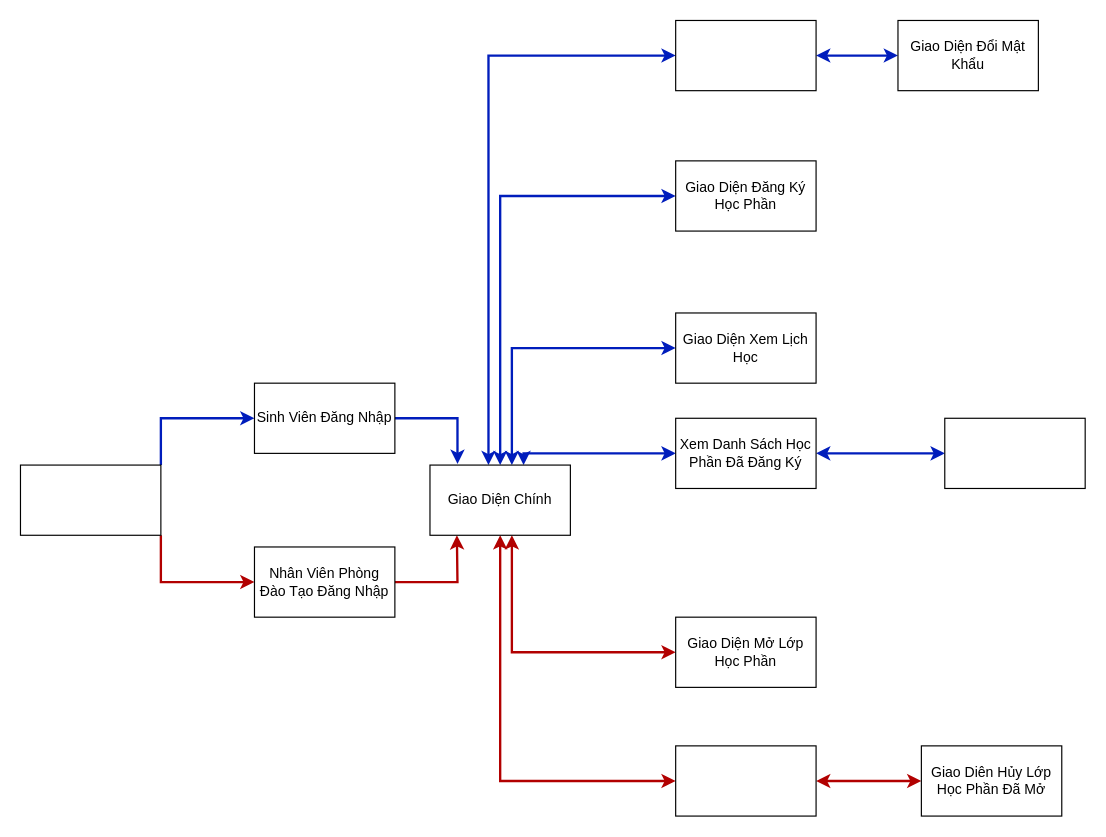
Image size: 1106x837. Some labels were removed from this diagram. Each missing label, with the centre of its shape:
"Giao Diên Huy Học Phần Đã Đăng Ký" goes at point (1014, 452).
"Giao Diện Thông Tin Sinh Viên" goes at point (745, 55).
"Giao Diện Xem Danh Sách Lớp Học Phần Đã Mở" goes at point (745, 780).
"Màn Hình Dăng Nhập" goes at point (90, 499).
